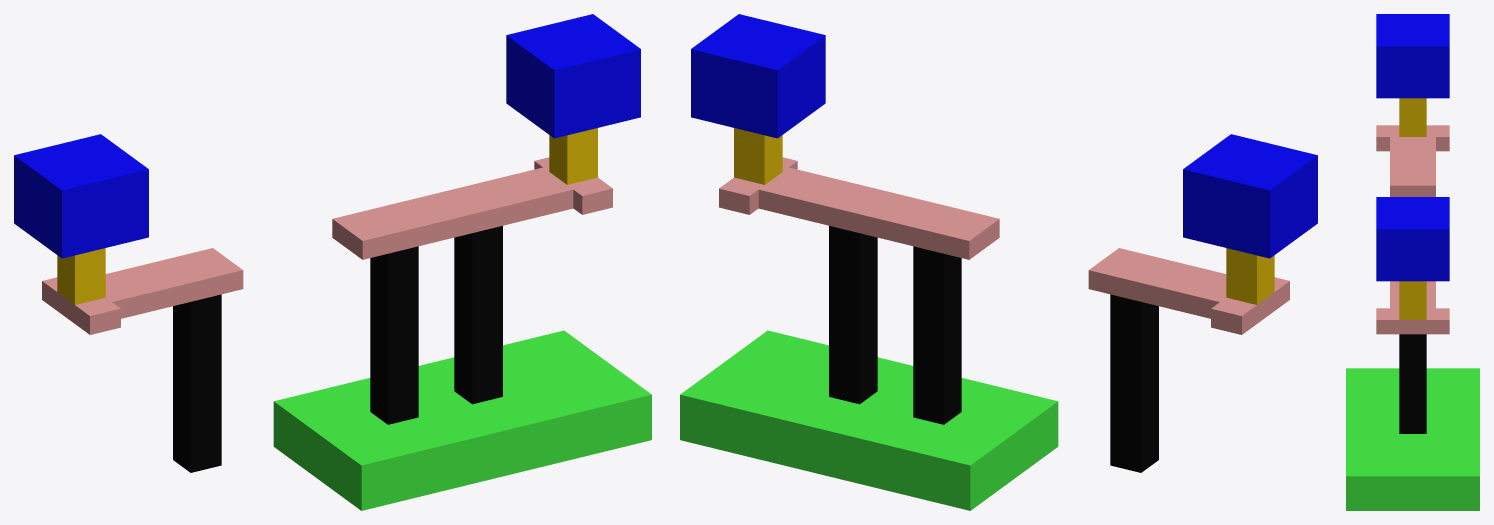
Rendered from sky130_fd_sc_hd__tapvpwrvgnd_1.obj.
3 renders of one model, left to right at view 1: azimuth 30°, elevation 25°; view 2: azimuth 150°, elevation 25°; view 3: azimuth 270°, elevation 25°, orthographic. The views are drawn at different scales.
Parts seen in each view (by area): view 1: nwell, metal1, licon, li, mcon; view 2: nwell, metal1, licon, li, mcon; view 3: nwell, metal1, li, licon, mcon.
Boxes of the visible parts, x1=… form: nwell: x1=273, y1=330, x2=651, y2=510; metal1: x1=14, y1=14, x2=640, y2=258; licon: x1=173, y1=226, x2=502, y2=472; li: x1=42, y1=157, x2=612, y2=334; mcon: x1=57, y1=128, x2=597, y2=304; nwell: x1=680, y1=330, x2=1058, y2=510; metal1: x1=691, y1=14, x2=1317, y2=258; licon: x1=829, y1=226, x2=1158, y2=472; li: x1=719, y1=157, x2=1289, y2=334; mcon: x1=734, y1=128, x2=1274, y2=304; nwell: x1=1346, y1=368, x2=1479, y2=510; metal1: x1=1376, y1=14, x2=1449, y2=281; li: x1=1376, y1=125, x2=1449, y2=334; licon: x1=1399, y1=334, x2=1426, y2=433; mcon: x1=1399, y1=98, x2=1426, y2=319.
Size of the model in its own units: 3.2 by 1.98 by 0.84.
